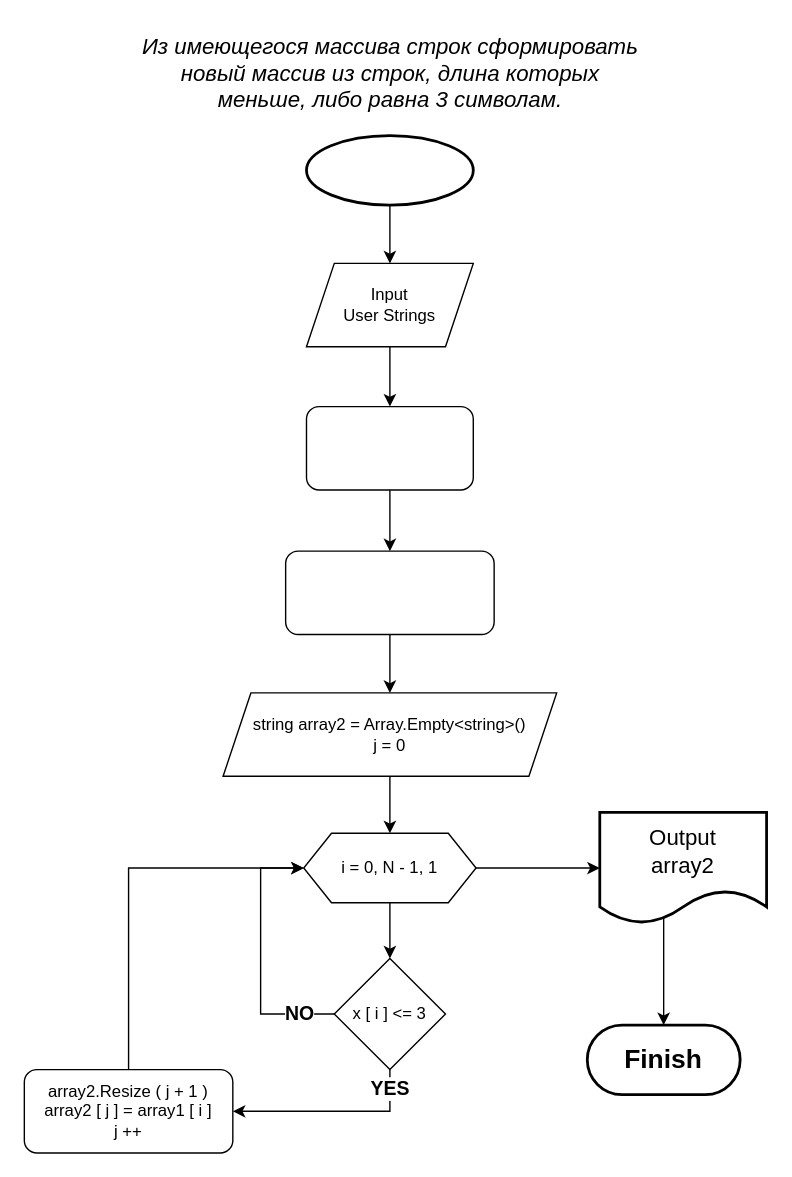
The diagram is 792 pixels wide and 1177 high, and some of its shapes have lost their labels. The shapes that lost their labels are listed below. From the top down, each one's box as (x1, y1, x2, y2) in pixels, then its label:
(304, 133, 474, 206): Start
(305, 405, 473, 490): Split strings to string array1
(284, 550, 494, 635): N = array1.Length x [ i ] = array1[ i ].Length
